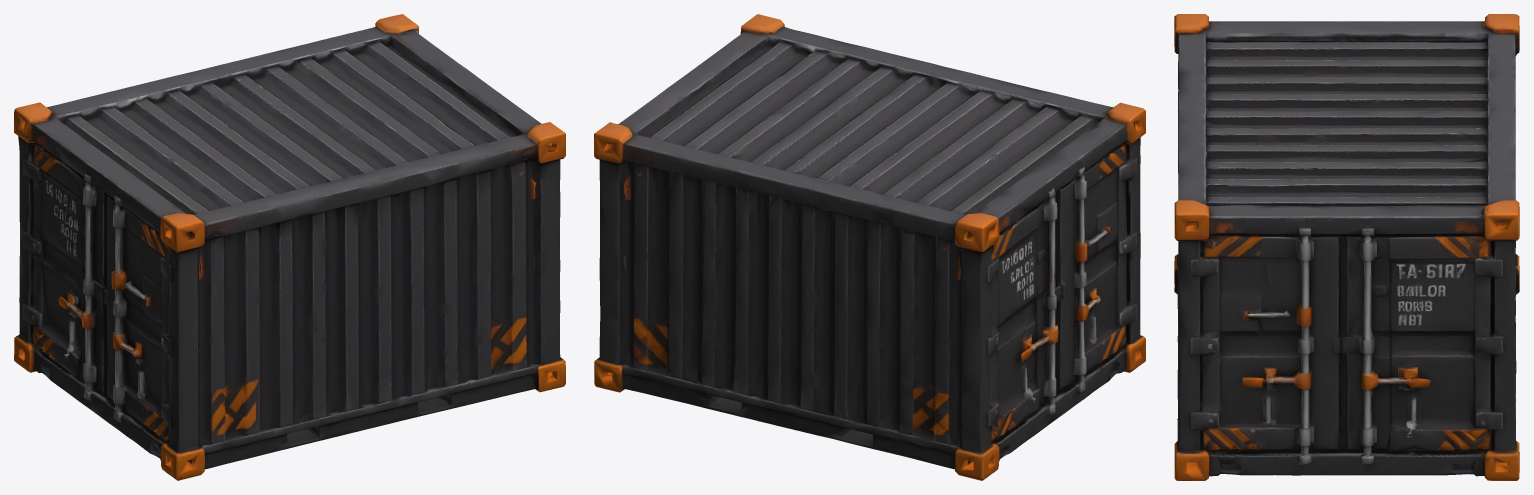
Rendered from IndustrialPropKitPart2.glb.
The picture shows the model from 3 angles, left to right: view 1: azimuth 30°, elevation 25°; view 2: azimuth 150°, elevation 25°; view 3: azimuth 270°, elevation 25°; orthographic projection. The views are drawn at different scales.
Parts seen in each view (by area): view 1: Mesh::generatedModels/buFbDRVLR2KGDMYJV6bj.gltf; view 2: Mesh::generatedModels/buFbDRVLR2KGDMYJV6bj.gltf; view 3: Mesh::generatedModels/buFbDRVLR2KGDMYJV6bj.gltf.
Boxes of the visible parts, x1,y1,x2,y2 form: Mesh::generatedModels/buFbDRVLR2KGDMYJV6bj.gltf: [14, 14, 565, 480]; Mesh::generatedModels/buFbDRVLR2KGDMYJV6bj.gltf: [594, 14, 1145, 480]; Mesh::generatedModels/buFbDRVLR2KGDMYJV6bj.gltf: [1174, 14, 1519, 480].
Size of the model in its own units: 1 by 0.6165 by 0.7175.
1 material, 1 textured.
